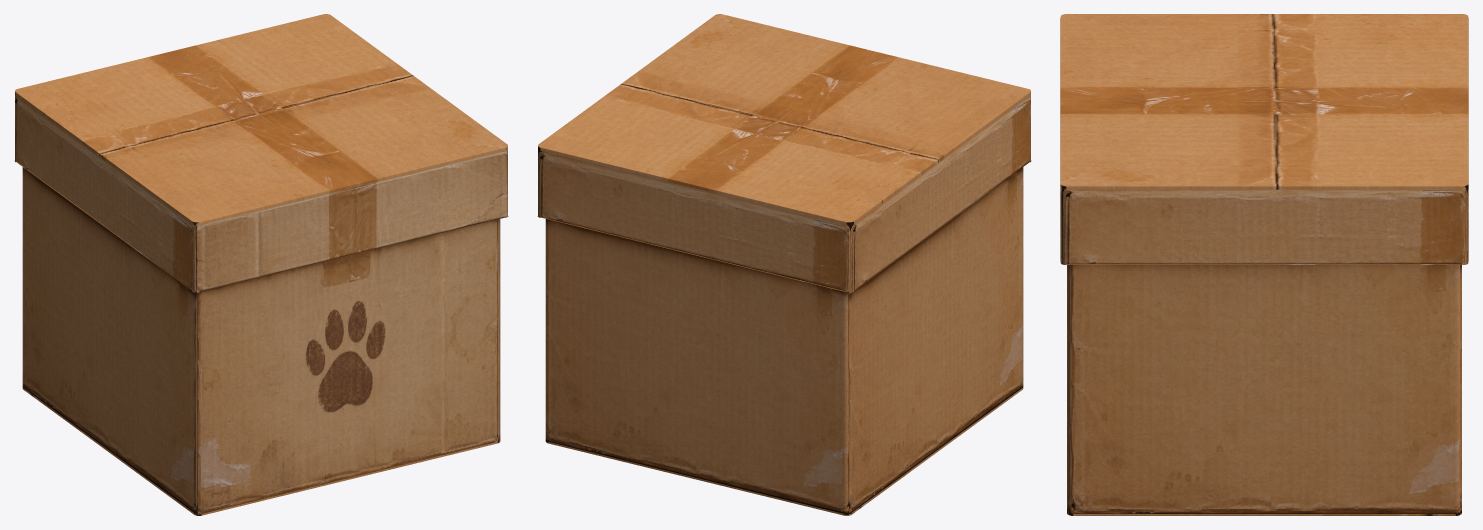
The model's file is DogBox.fbx.
3 views of the same model, side by side, from view 1: azimuth 30°, elevation 25°; view 2: azimuth 150°, elevation 25°; view 3: azimuth 270°, elevation 25° (orthographic). The views are drawn at different scales.
Visible parts, largest first — view 1: Cube; view 2: Cube; view 3: Cube.
Part boxes in pixels (x1,y1,x2,y2): Cube: (14, 14, 508, 515); Cube: (537, 14, 1031, 515); Cube: (1060, 14, 1468, 515).
Bounding box in the file's own units: 207 × 186 × 207.
Materials: 3 (3 with a texture image).
